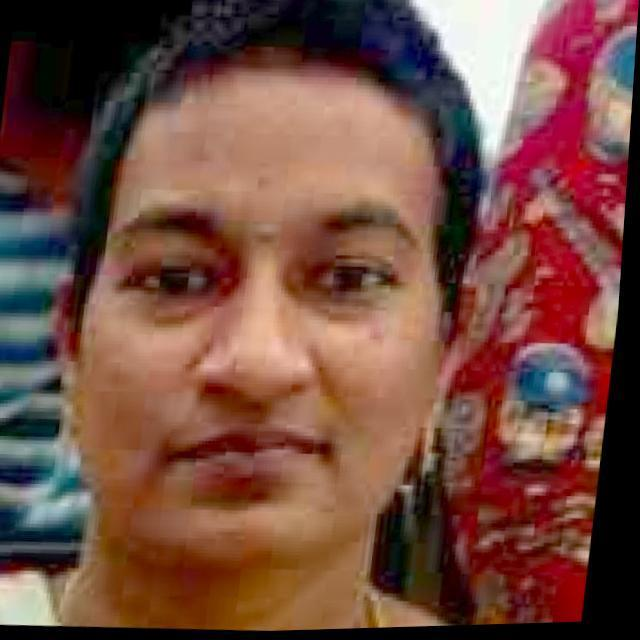puffy_eyes: (299, 299, 376, 324), (147, 303, 222, 325)
